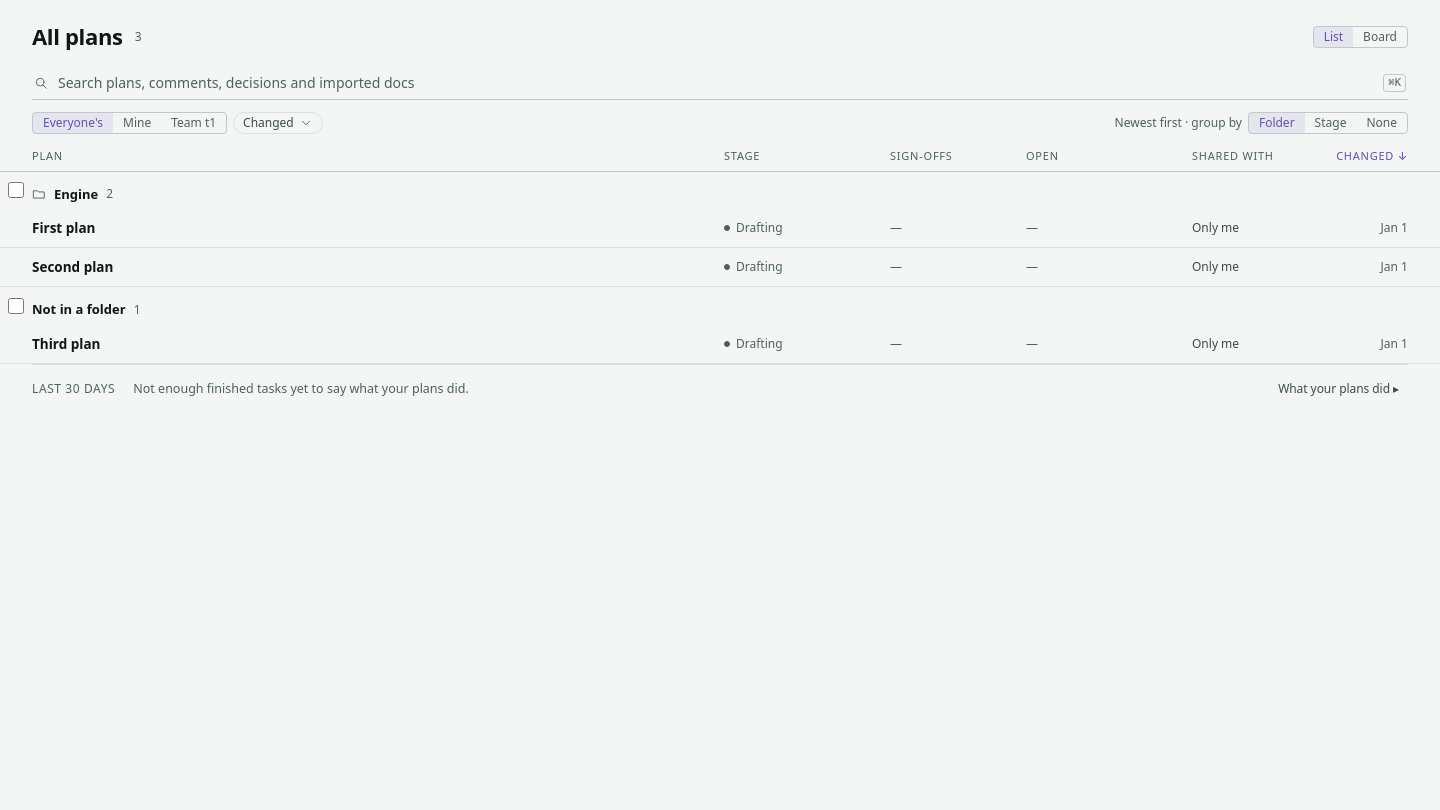
shift-selects a range and confirms one bulk delete for the shared selection
Expected: the element "Engine" is shown, left=0, top=172, right=1439, bottom=287
Click the 2nd checkbox labelled "First plan Drafting — — Only me Jan 1" at (720, 228), box left=0, top=209, right=1439, bottom=247
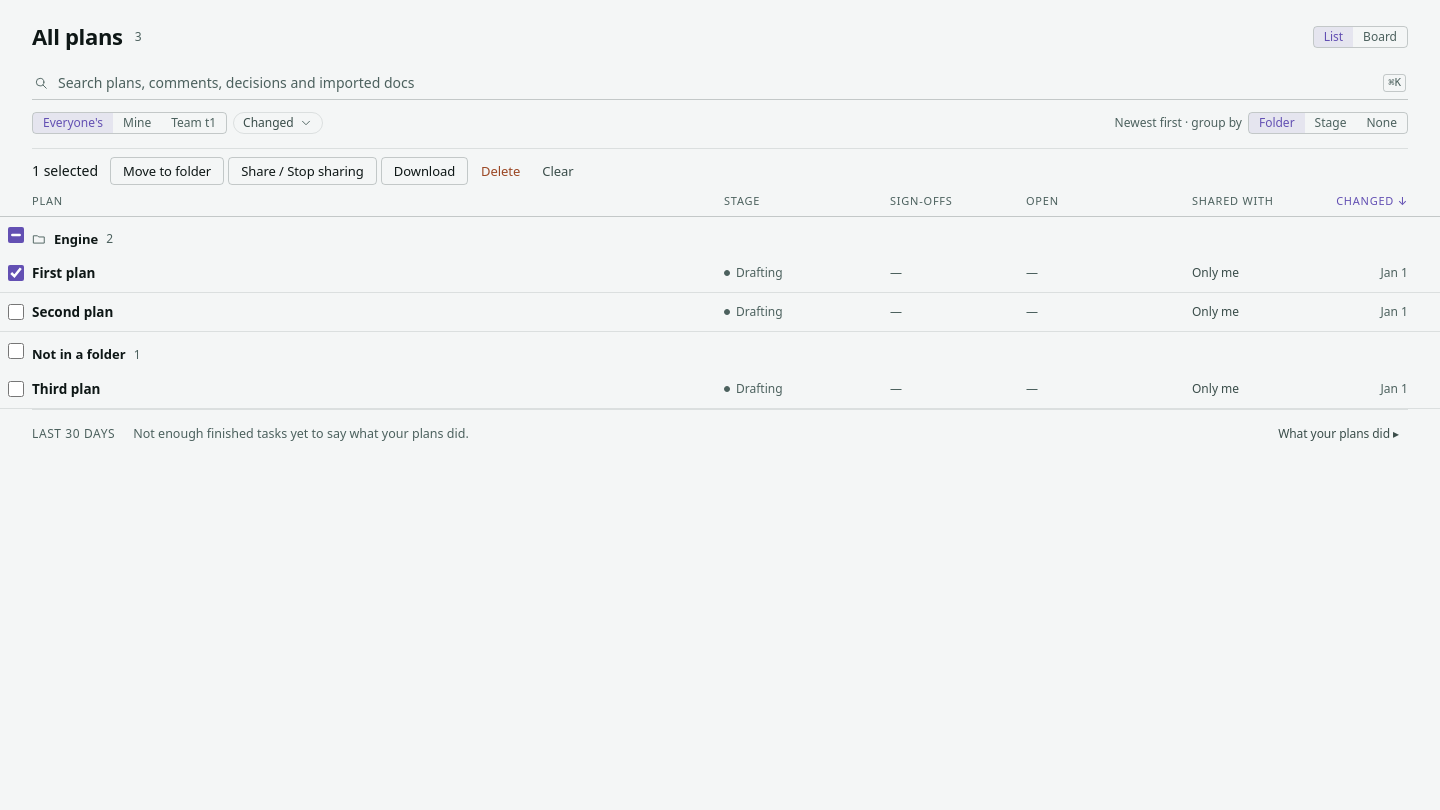
Click the checkbox named "Select Third plan" at (16, 389), box left=8, top=381, right=24, bottom=397
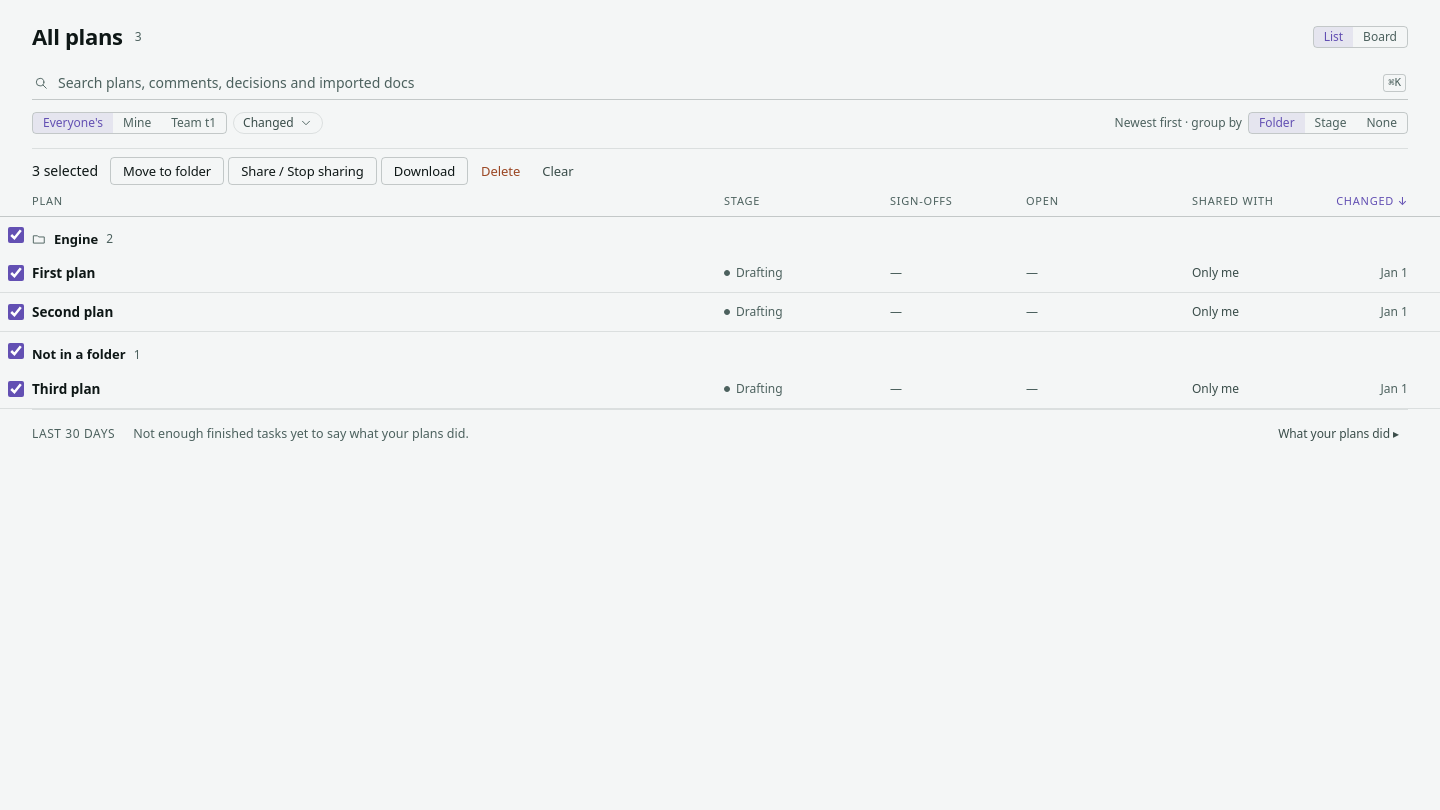
Click the button "Delete" at (501, 171), box left=472, top=157, right=529, bottom=185
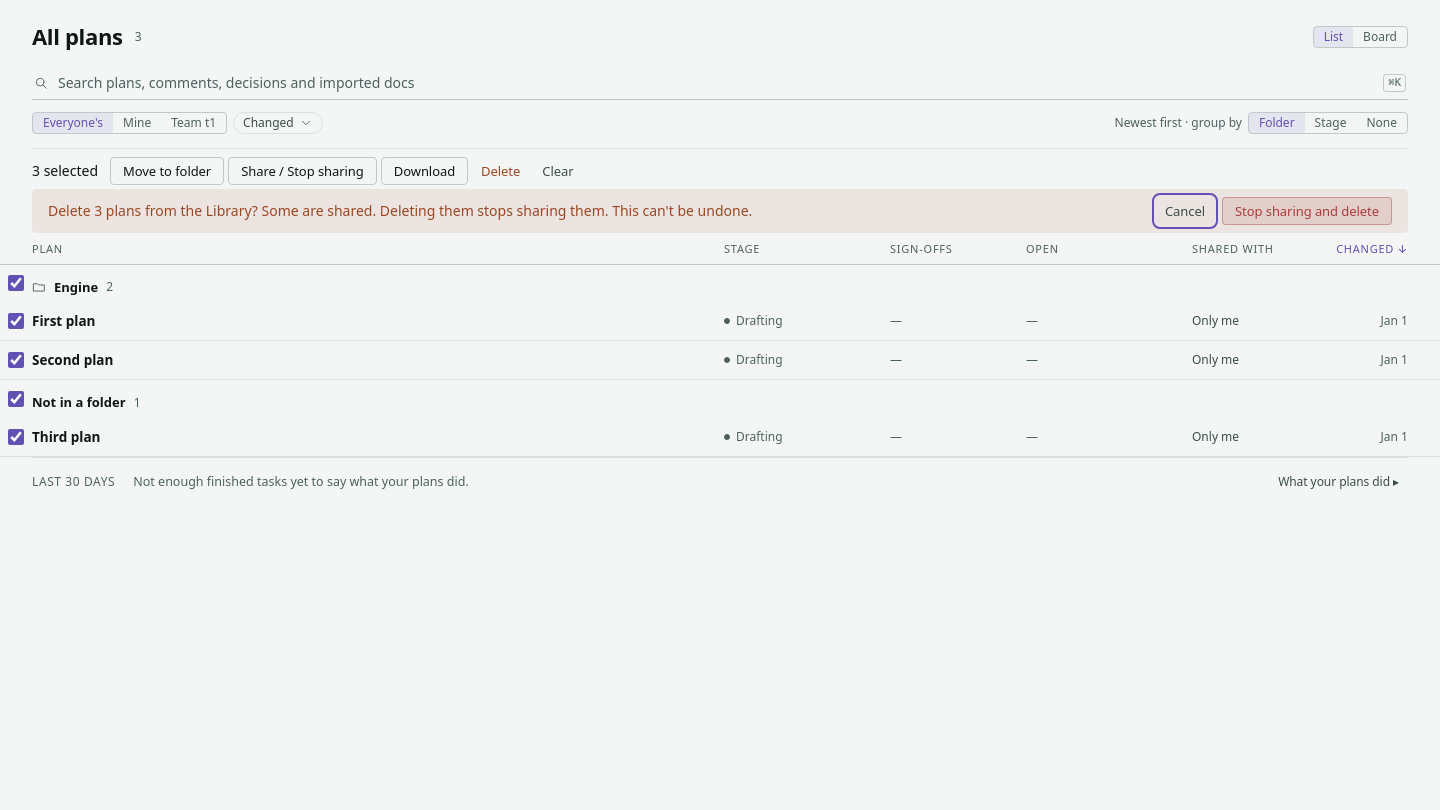
Click the button "Stop sharing and delete" at (1307, 211), box left=1222, top=197, right=1392, bottom=225
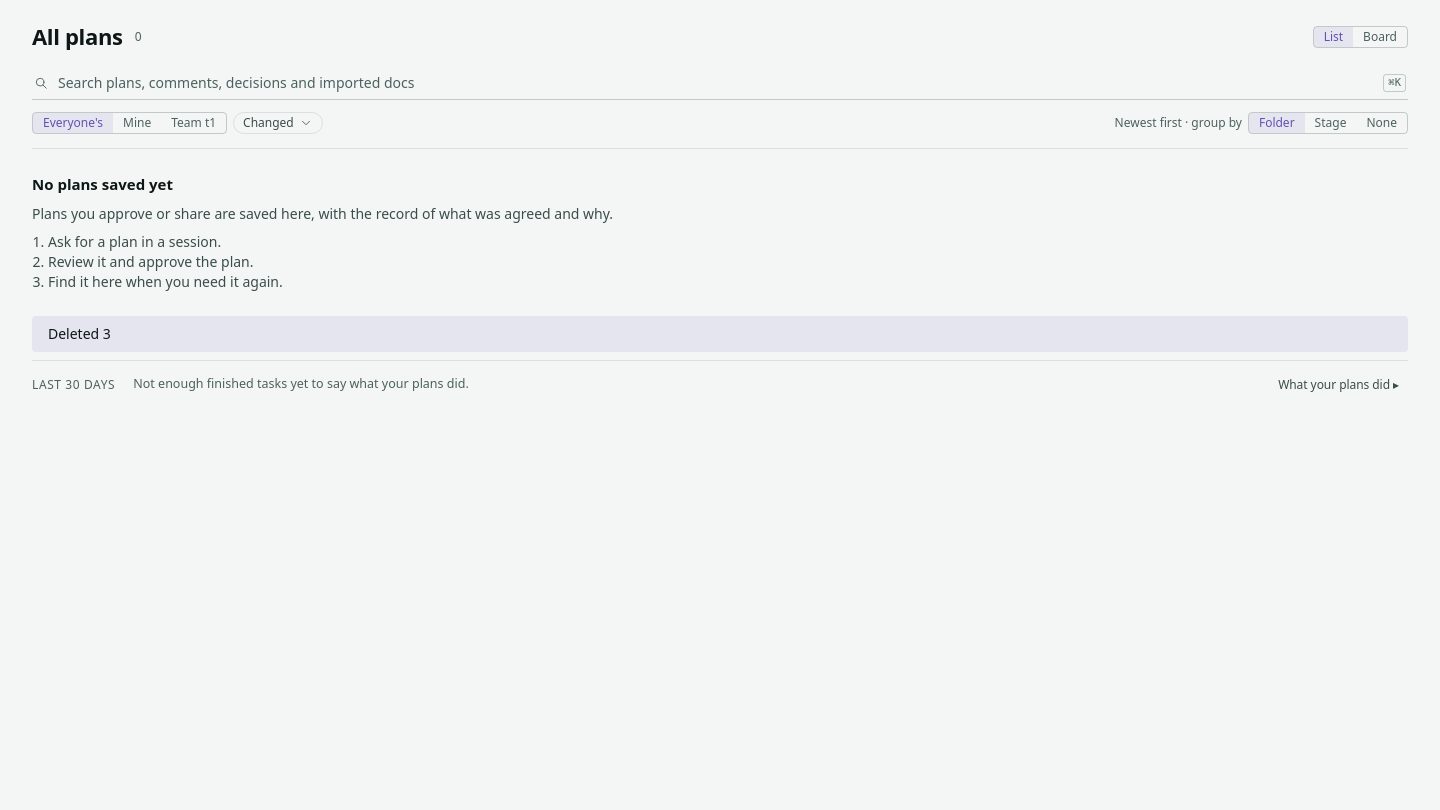
Expected: no checkboxes are shown
